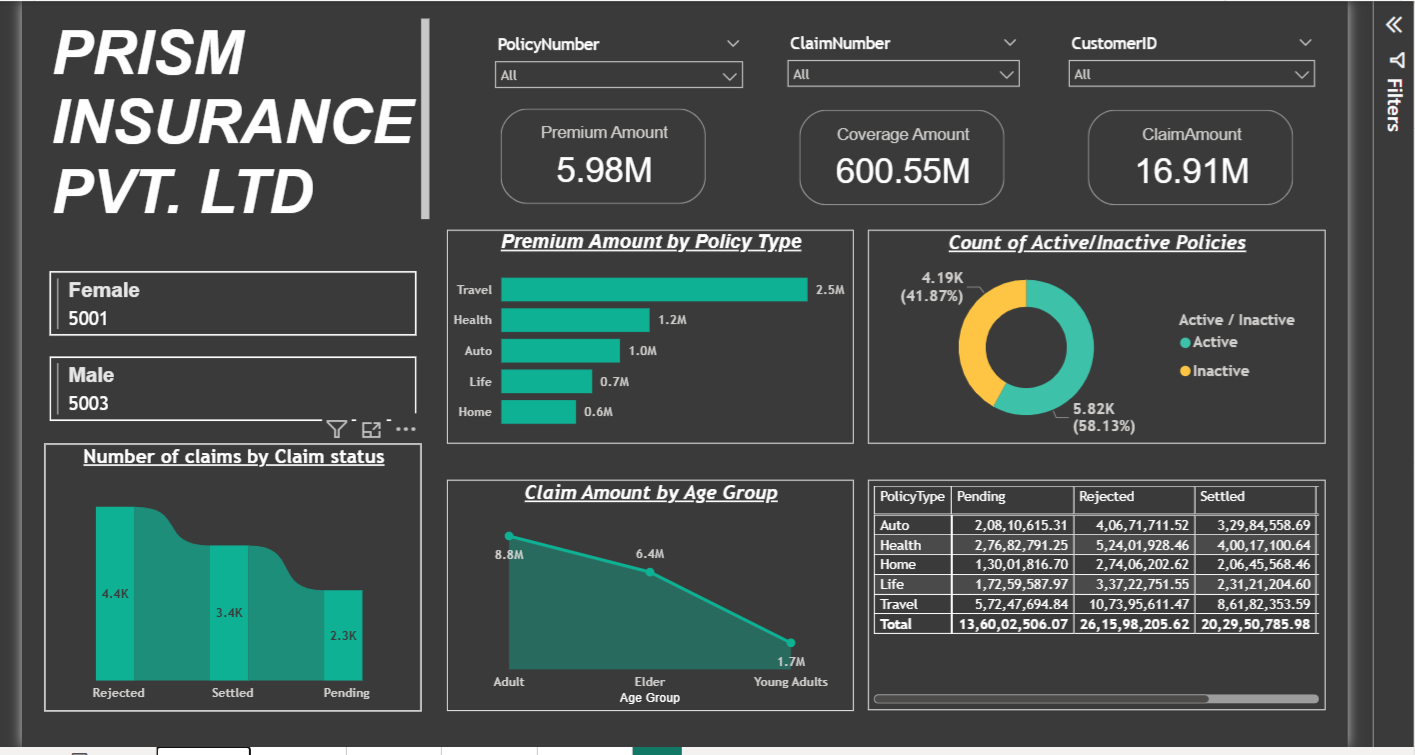

The dashboard page shown, as its layout file describes it:
{"tool":"powerbi","page":{"name":"Page 1","canvas":[1280,720],"ordinal":0},"visuals":[{"type":"slicer","fields":{"Values":["InsuranceData.PolicyNumber"]},"box":[446,27.4,259.3,72.7],"z":0},{"type":"slicer","fields":{"Values":["InsuranceData.ClaimNumber"]},"box":[728.6,26.1,244.3,72.7],"z":1000},{"type":"slicer","fields":{"Values":["InsuranceData.CustomerID"]},"box":[1000.3,26.1,258,72.7],"z":2000},{"type":"textbox","box":[22.5,12.5,375,207.5],"z":3000},{"type":"cardVisual","fields":{"Data":["Sum(InsuranceData.PremiumAmount)"]},"box":[457.2,98.9,208.7,102.5],"z":4000},{"type":"cardVisual","fields":{"Data":["Sum(InsuranceData.CoverageAmount)"]},"box":[745.6,100.1,208.7,102.5],"z":5000},{"type":"cardVisual","fields":{"Data":["Sum(InsuranceData.ClaimAmount)"]},"box":[1024.3,100.1,208.7,102.5],"z":6000},{"type":"multiRowCard","fields":{"Values":["InsuranceData.Gender","CountNonNull(InsuranceData.Gender)"]},"box":[22,255.5,364,207],"z":7000},{"type":"ribbonChart","title":"Number of claims by Claim status","fields":{"Category":["InsuranceData.ClaimStatus"],"Y":["CountNonNull(InsuranceData.ClaimStatus)"]},"box":[21.7,427.1,364.3,258.2],"z":8000},{"type":"barChart","title":"Premium Amount by Policy Type","fields":{"Category":["InsuranceData.PolicyType"],"Y":["Sum(InsuranceData.PremiumAmount)"]},"box":[410,221.2,392.5,206.2],"z":9000},{"type":"lineChart","title":"Claim Amount by Age Group","fields":{"Category":["InsuranceData.Age Group"],"Y":["Sum(InsuranceData.ClaimAmount)"]},"box":[410,462,393,223],"z":10000},{"type":"donutChart","title":"Count of Active/Inactive Policies","fields":{"Category":["InsuranceData.Active / Inactive"],"Y":["CountNonNull(InsuranceData.Active / Inactive)"]},"box":[816.2,221.2,441.2,206.2],"z":11000},{"type":"pivotTable","fields":{"Values":["Sum(InsuranceData.CoverageAmount)"],"Rows":["InsuranceData.PolicyType"],"Columns":["InsuranceData.ClaimStatus"]},"box":[816.2,462.5,441.2,222.5],"z":12000}]}

Visuals, with their boxes on the page's 1280x720 design canvas (x1, y1, x2, y2). These are canvas units, not pixel positions in the 1415x755 screenshot, which may show the page scaled, cropped or inside an application window:
slicer - InsuranceData.PolicyNumber: region(446, 27, 705, 100)
slicer - InsuranceData.ClaimNumber: region(729, 26, 973, 99)
slicer - InsuranceData.CustomerID: region(1000, 26, 1258, 99)
textbox: region(22, 12, 398, 220)
cardVisual - Sum(InsuranceData.PremiumAmount): region(457, 99, 666, 201)
cardVisual - Sum(InsuranceData.CoverageAmount): region(746, 100, 954, 203)
cardVisual - Sum(InsuranceData.ClaimAmount): region(1024, 100, 1233, 203)
multiRowCard - InsuranceData.Gender x CountNonNull(InsuranceData.Gender): region(22, 256, 386, 462)
"Number of claims by Claim status" ribbonChart: region(22, 427, 386, 685)
"Premium Amount by Policy Type" barChart: region(410, 221, 802, 427)
"Claim Amount by Age Group" lineChart: region(410, 462, 803, 685)
"Count of Active/Inactive Policies" donutChart: region(816, 221, 1257, 427)
pivotTable - Sum(InsuranceData.CoverageAmount) x InsuranceData.PolicyType: region(816, 462, 1257, 685)
